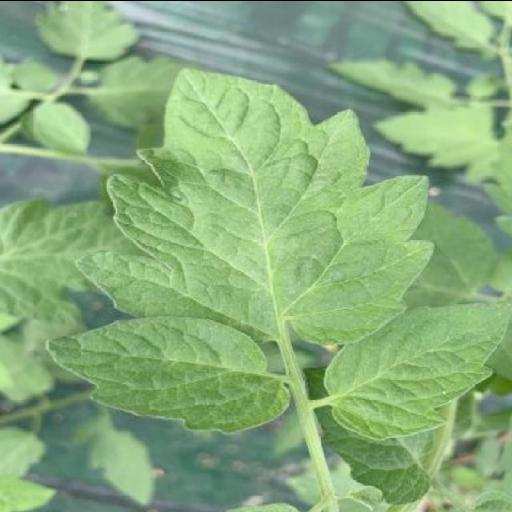Healthy: (75, 67, 436, 344), (46, 314, 290, 434), (323, 302, 512, 440)
